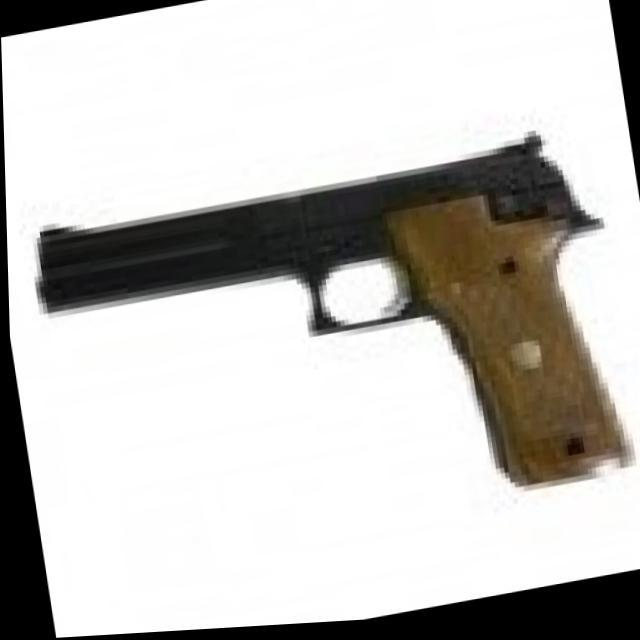weapon: (18, 121, 639, 570)
